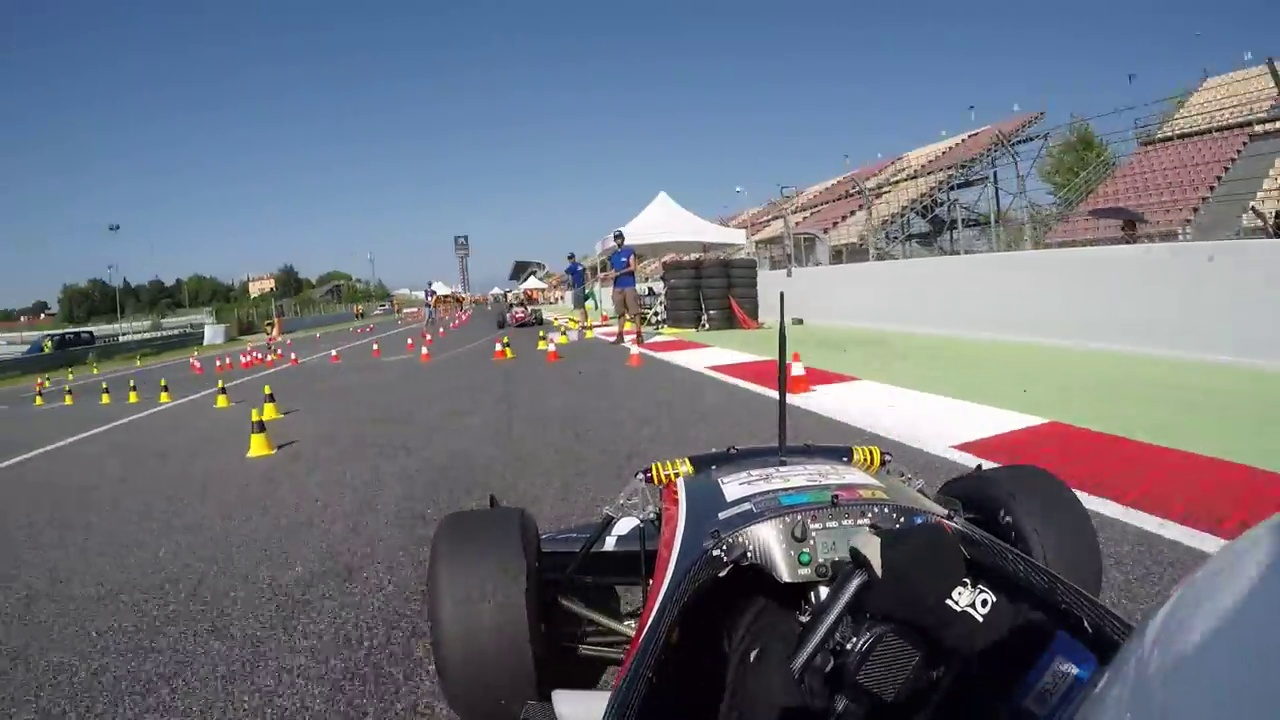Cone: (245, 407, 276, 457), (788, 349, 815, 395), (258, 381, 285, 421), (212, 379, 231, 406)
